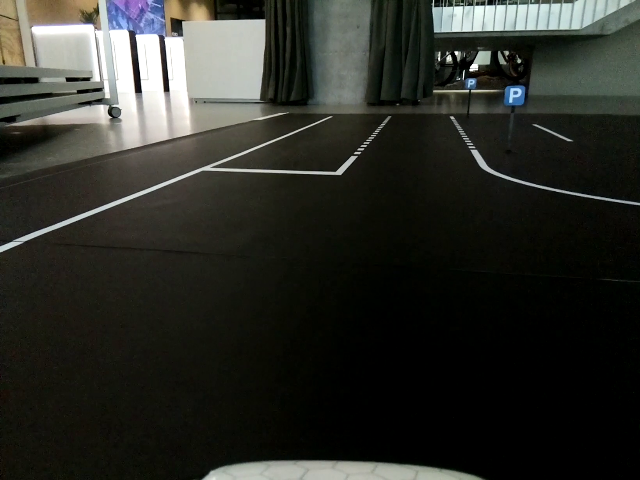park: (504, 87, 524, 106), (467, 78, 477, 88)
